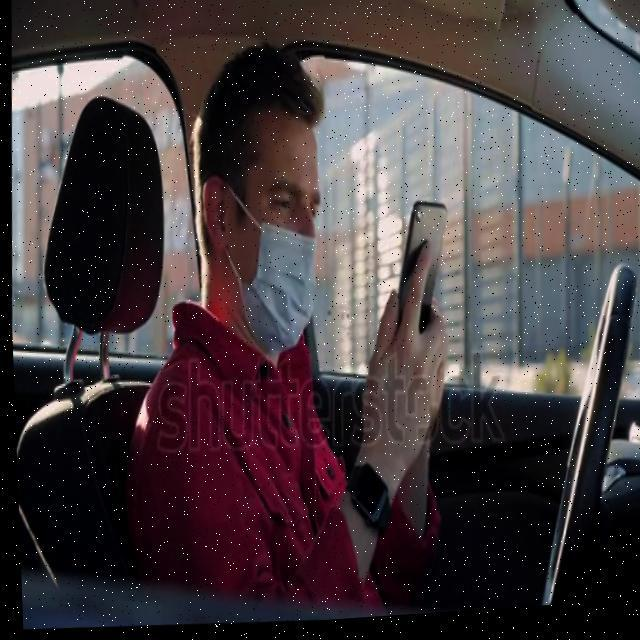PhoneCall: (391, 200, 448, 365)
